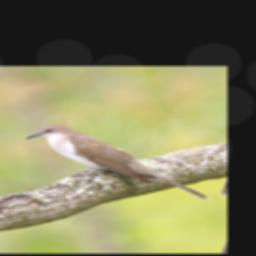Cuckoo: (20, 104, 211, 227)
